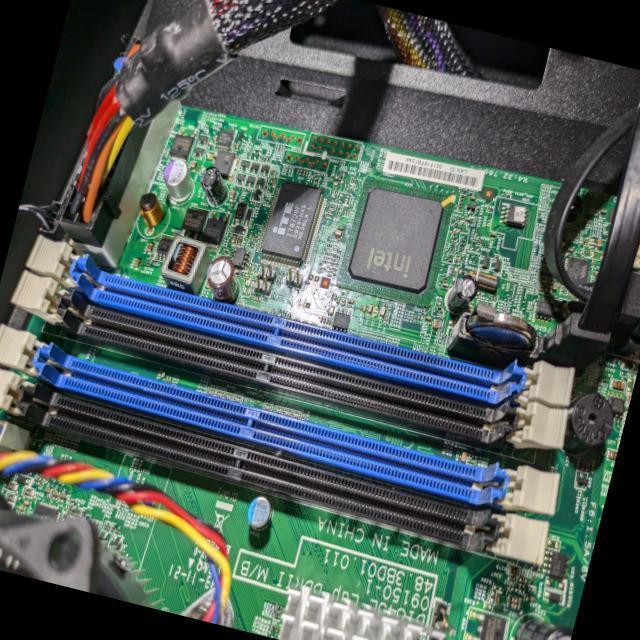CPU_Fan: (0, 479, 249, 627)
Mainboard: (0, 59, 640, 640)
